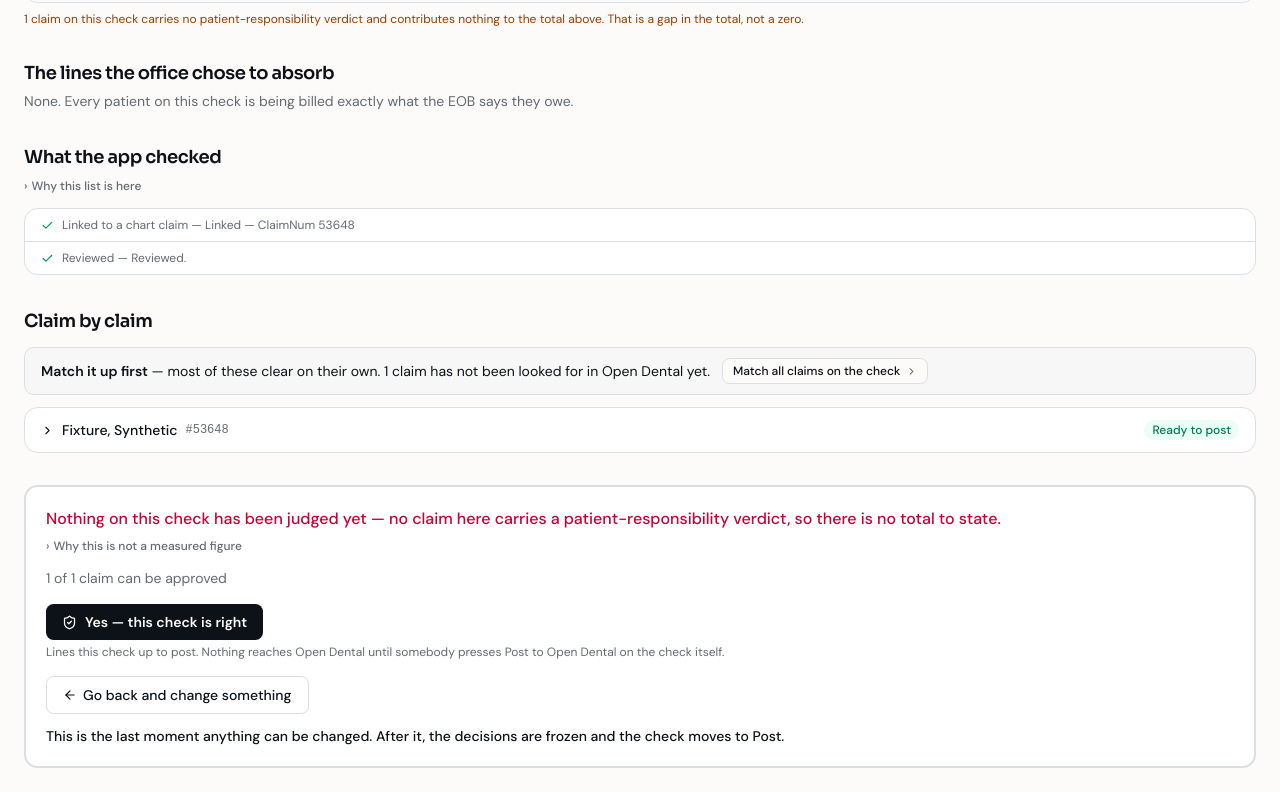
Test: the remittance detail › says plainly that nothing has reached Open Dental yet
(page scrolled)
Click the button with test id "approve-button": coordinates (155, 622) x1=46 y1=604 x2=263 y2=640
(page scrolled)
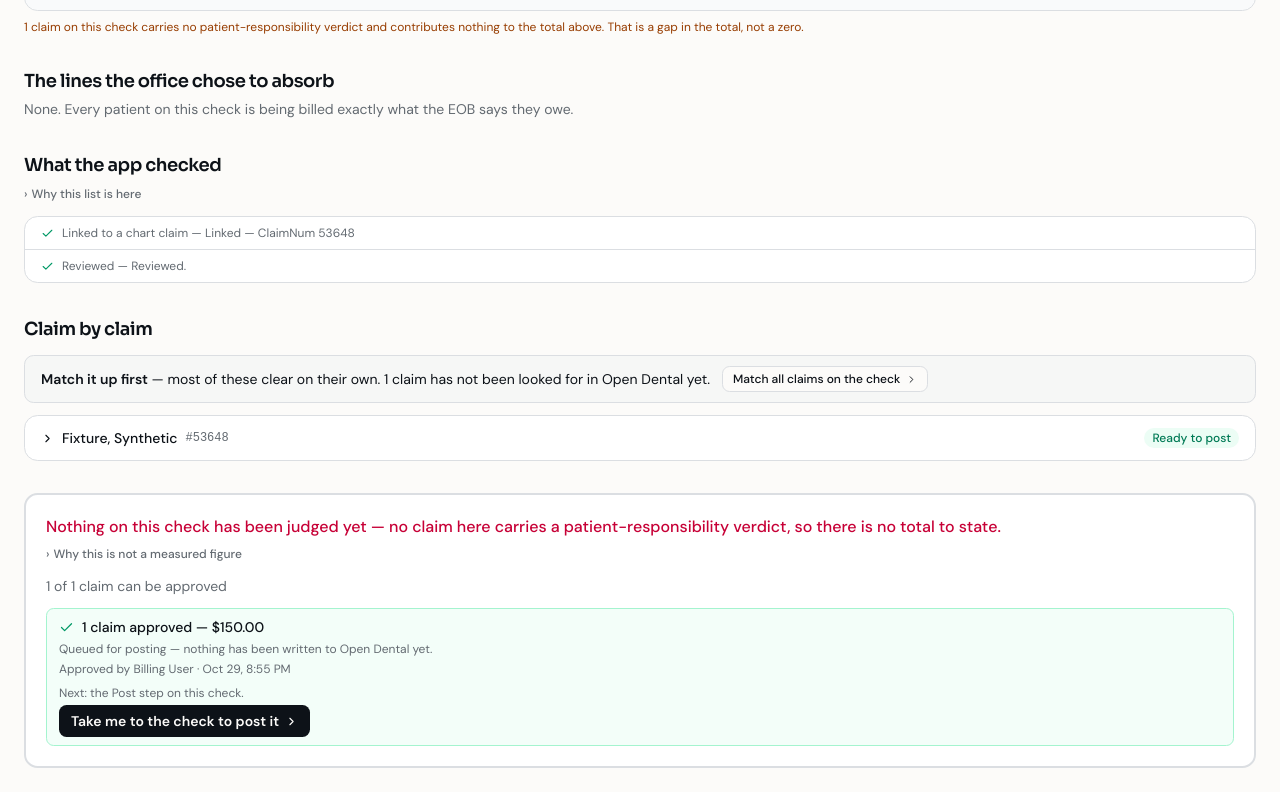
Now the element with test id "approve-result" shows "1 claim approved", box x1=46 y1=608 x2=1234 y2=746
Now the text with test id "approve-honest-state" reads "Queued for posting — nothing has been written to Open Dental yet.", box x1=59 y1=641 x2=432 y2=657
